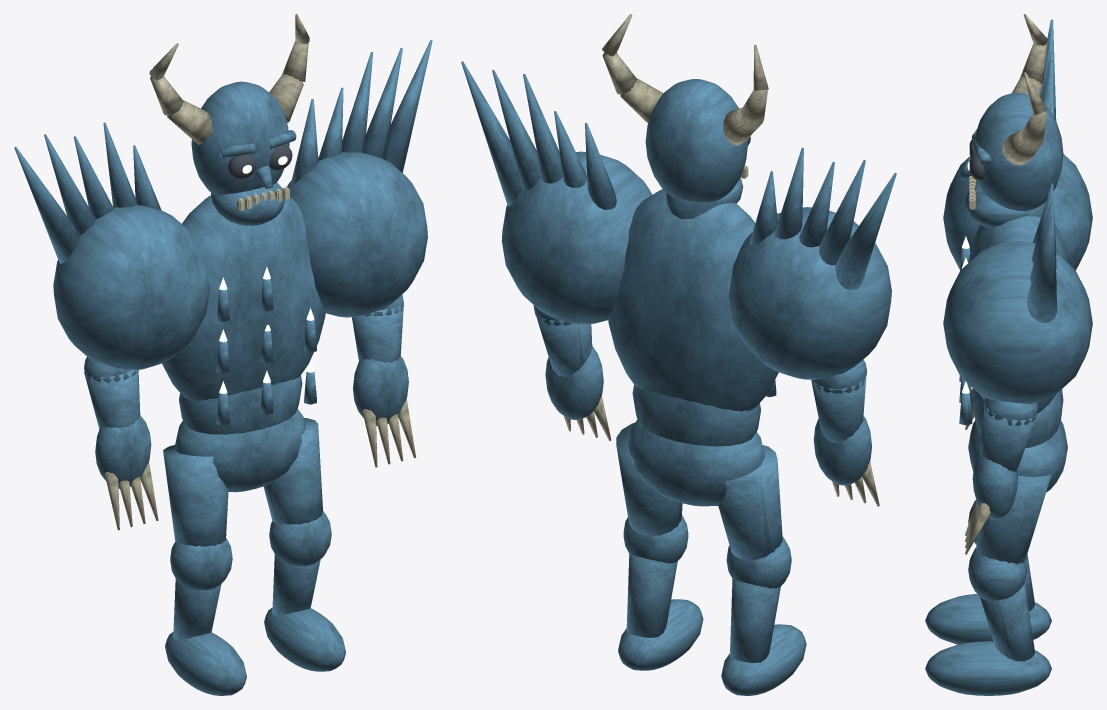
Rendered from enemy_ice_golem.glb.
3 renders of one model, left to right at view 1: azimuth 30°, elevation 25°; view 2: azimuth 150°, elevation 25°; view 3: azimuth 270°, elevation 25°, orthographic. The views are drawn at different scales.
Parts seen in each view (by area): view 1: Blue_glacial_ice.006, Blue_glacial_ice, Blue_glacial_ice.001, Blue_glacial_ice.003, Blue_glacial_ice.005, Blue_glacial_ice.002, Blue_glacial_ice.004, Aged_bone.002, Aged_bone.001, Aged_bone, Eye_socket; view 2: Blue_glacial_ice.006, Blue_glacial_ice, Blue_glacial_ice.001, Blue_glacial_ice.003, Blue_glacial_ice.005, Blue_glacial_ice.002, Blue_glacial_ice.004, Aged_bone.002; view 3: Blue_glacial_ice.006, Blue_glacial_ice.003, Blue_glacial_ice.005, Blue_glacial_ice, Blue_glacial_ice.004, Blue_glacial_ice.001, Aged_bone.002, Aged_bone.001, Eye_socket.
Boxes of the visible parts, box(x1,y1,x2,y2) form: Blue_glacial_ice.006: box(14, 40, 432, 425); Blue_glacial_ice: box(162, 195, 325, 492); Blue_glacial_ice.001: box(163, 445, 246, 695); Blue_glacial_ice.003: box(263, 418, 345, 671); Blue_glacial_ice.005: box(191, 81, 296, 225); Blue_glacial_ice.002: box(84, 357, 151, 488); Blue_glacial_ice.004: box(352, 294, 408, 425); Aged_bone.002: box(149, 14, 309, 210); Aged_bone.001: box(362, 399, 415, 467); Aged_bone: box(104, 462, 158, 530); Eye_socket: box(228, 144, 292, 179); Blue_glacial_ice.006: box(461, 61, 896, 397); Blue_glacial_ice: box(608, 189, 778, 506); Blue_glacial_ice.001: box(718, 445, 806, 695); Blue_glacial_ice.003: box(616, 423, 703, 670); Blue_glacial_ice.005: box(645, 79, 747, 219); Blue_glacial_ice.002: box(811, 359, 871, 485); Blue_glacial_ice.004: box(533, 305, 603, 419); Aged_bone.002: box(602, 14, 768, 178); Blue_glacial_ice.006: box(943, 19, 1092, 425); Blue_glacial_ice.003: box(925, 474, 1051, 695); Blue_glacial_ice.005: box(958, 92, 1063, 227); Blue_glacial_ice: box(968, 216, 1067, 492); Blue_glacial_ice.004: box(972, 398, 1038, 519); Blue_glacial_ice.001: box(925, 500, 1051, 644); Aged_bone.002: box(969, 14, 1047, 209); Aged_bone.001: box(965, 501, 990, 554); Eye_socket: box(969, 139, 984, 179).
Size of the model in its own units: 2.42 by 3.5 by 0.8492.
4 materials, 2 textured.
